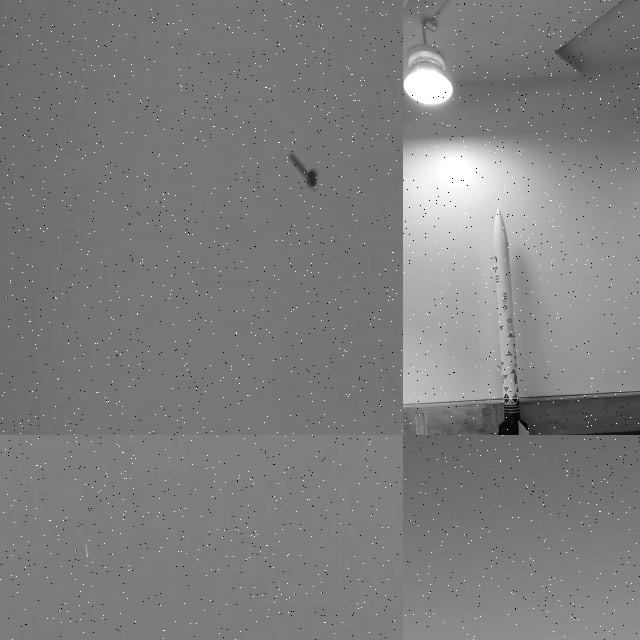Rocket: (493, 208, 530, 435), (290, 154, 318, 188), (85, 544, 88, 558)
